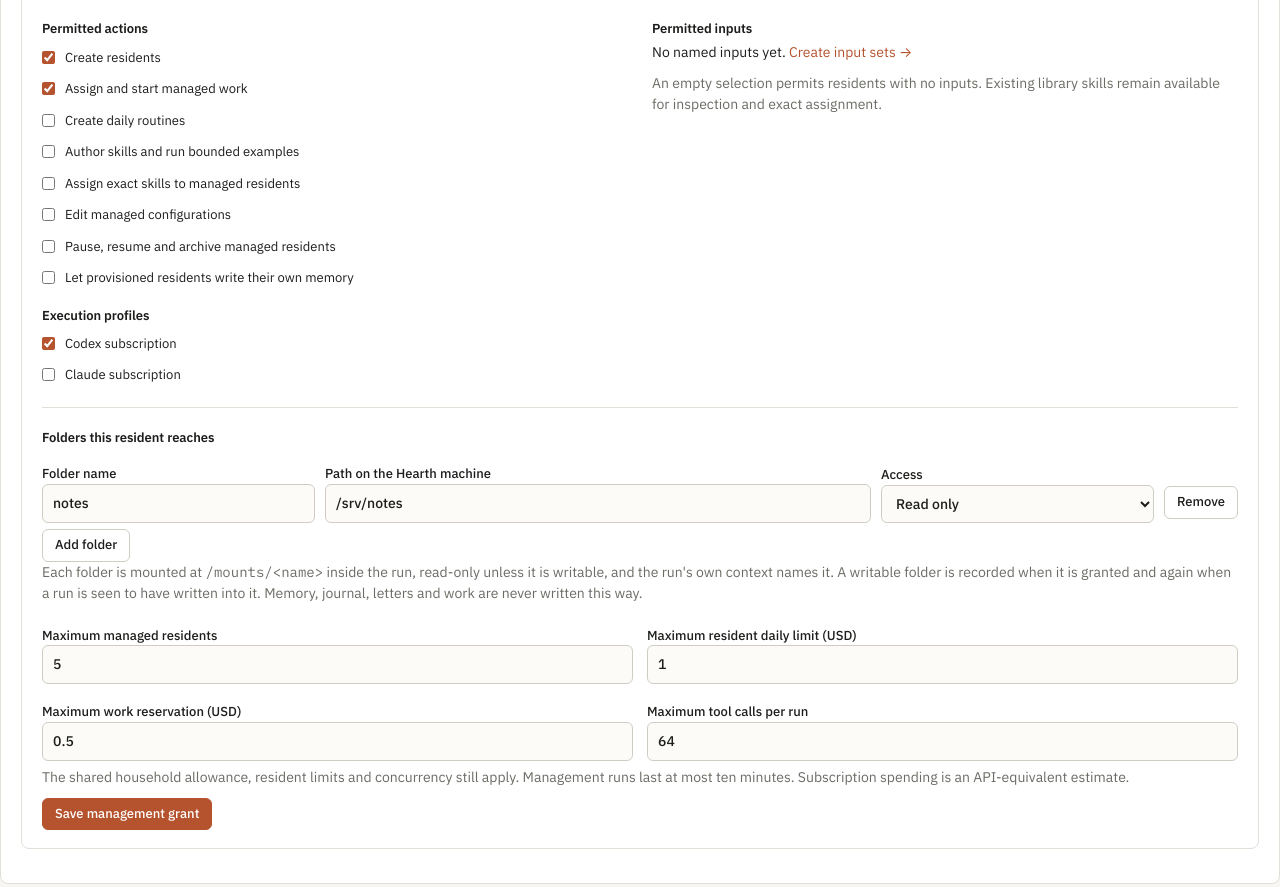
Test case: preserves a conflicting policy draft and exposes operator scope explicitly
(page scrolled)
Replace the text in the number field labelled "Maximum managed residents" with "3" at (338, 664), box 42,645 -> 633,684
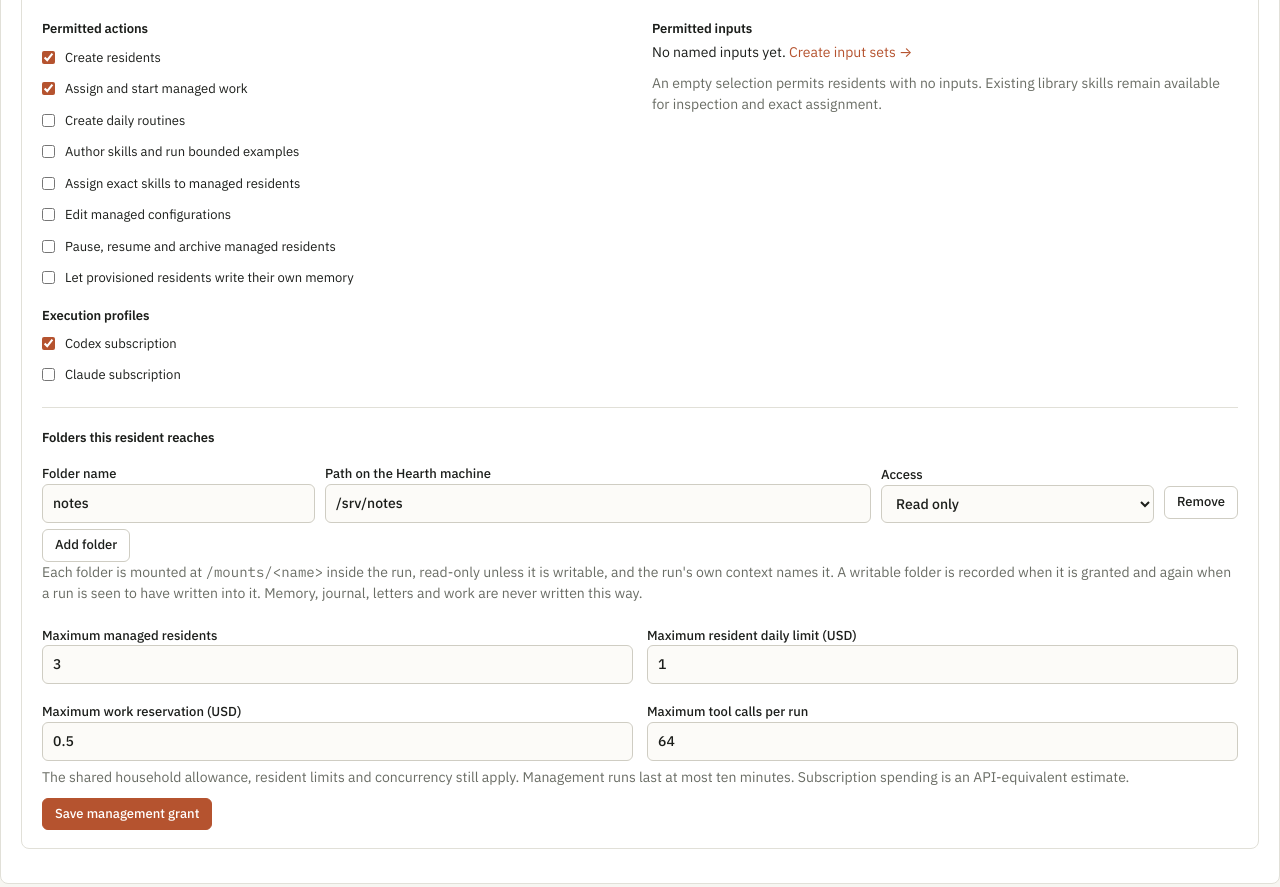
Click the button "Save management grant" at (127, 814), box 42,798 -> 212,830
(page scrolled)
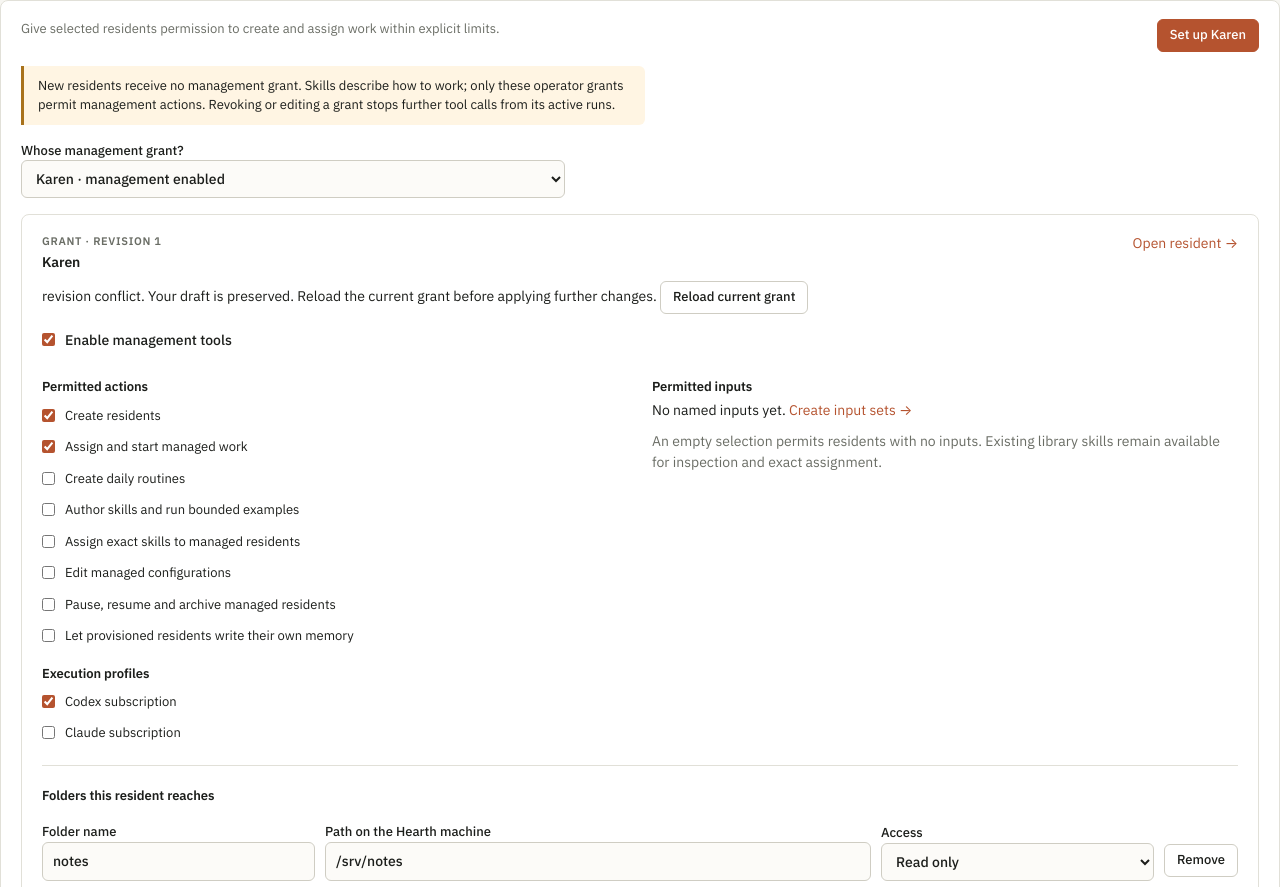
expect the text "New residents receive no management grant" is shown: met, box 38,77 -> 624,113
expect the text "Your draft is preserved" is shown: met, box 42,287 -> 657,305
